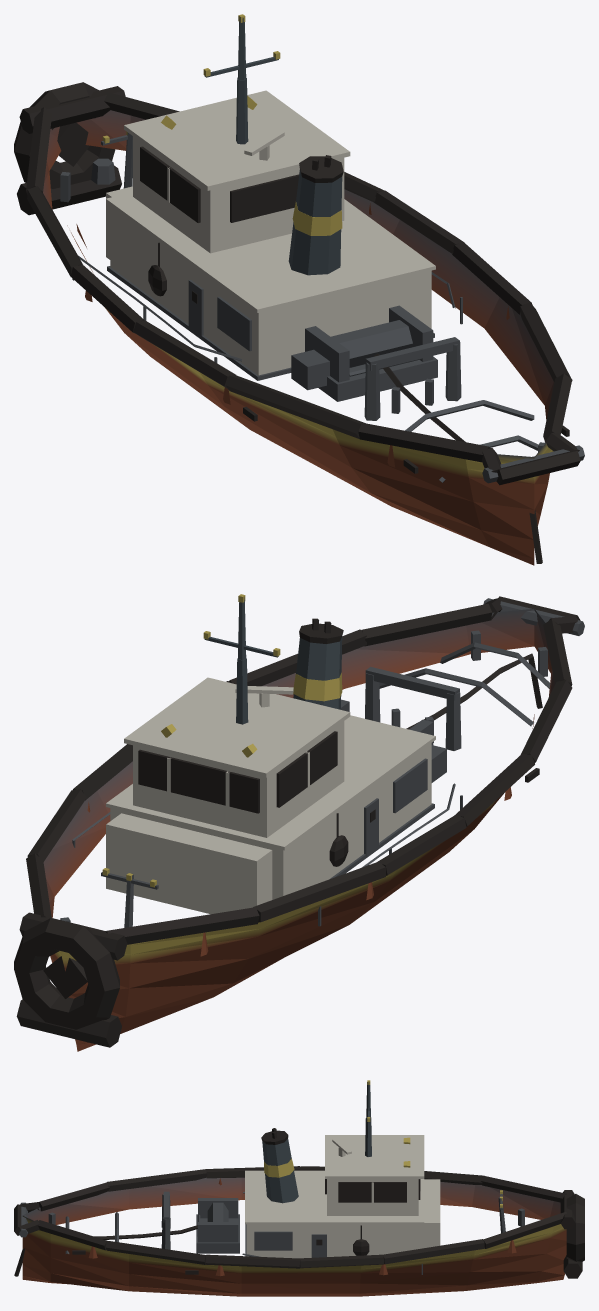
Rendered from paddlewheel_pod.glb.
The picture shows the model from 3 angles, top to bottom: view 1: azimuth 30°, elevation 25°; view 2: azimuth 150°, elevation 25°; view 3: azimuth 270°, elevation 25°; orthographic projection. The views are drawn at different scales.
Visible parts, largest first — view 1: 081-tugboat; view 2: 081-tugboat; view 3: 081-tugboat.
Part boxes in pixels (x1=…): 081-tugboat: x1=14, y1=14, x2=584, y2=565; 081-tugboat: x1=14, y1=594, x2=584, y2=1051; 081-tugboat: x1=14, y1=1080, x2=584, y2=1296.
Size of the model in its own units: 11.98 by 11.5 by 29.93.
